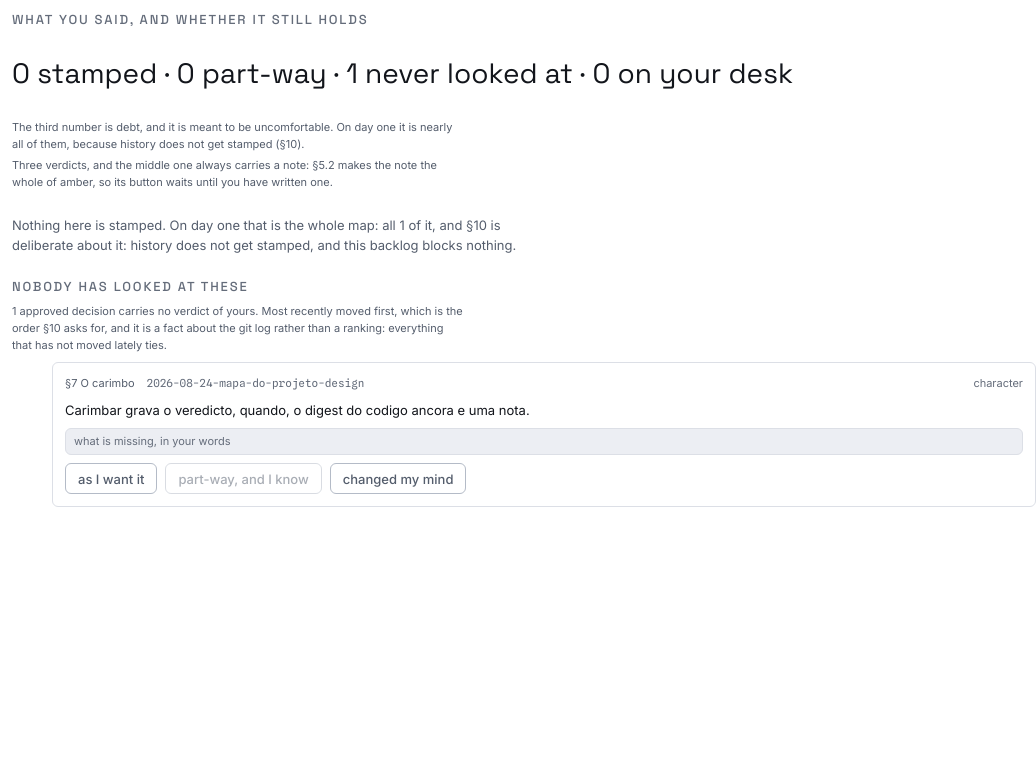
Scenario: the owner's verdict, and what became of it › reads a 503 as try again, not as a failure the owner caused
What coordinates should you click on to do the following:
click the button "as I want it"
I would click on:
 (111, 479)
Its box is [65, 463, 157, 494].
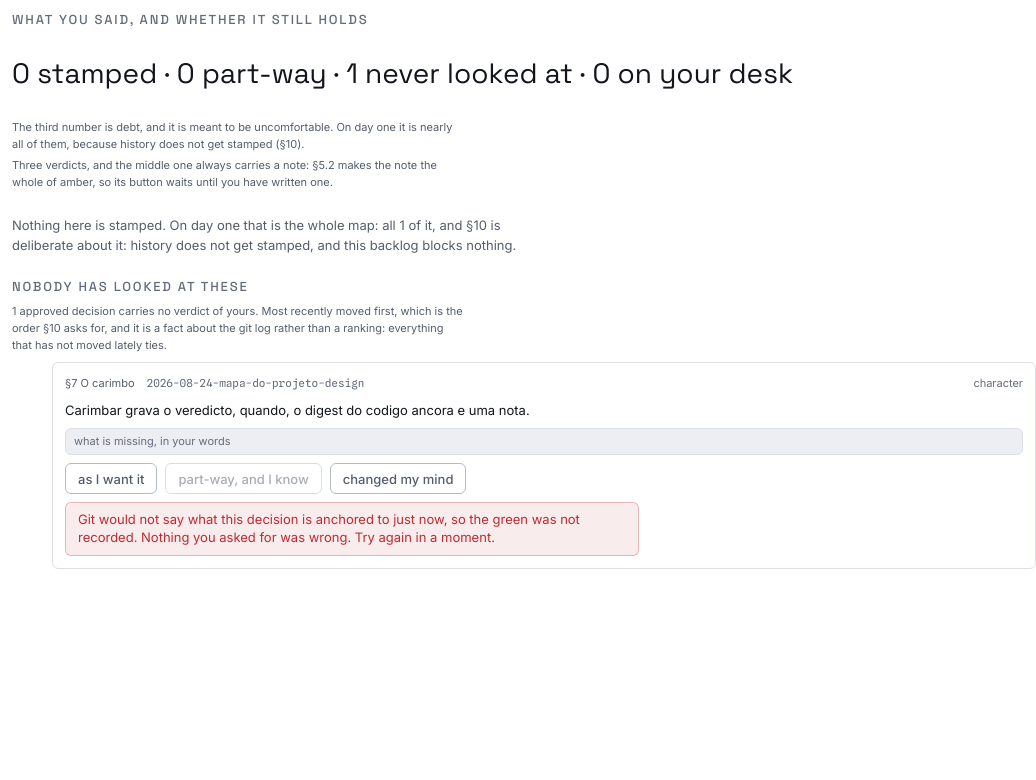
Expected: the text "Try again in a moment" shows "nothing you asked for was wrong", [78, 512, 580, 545]
